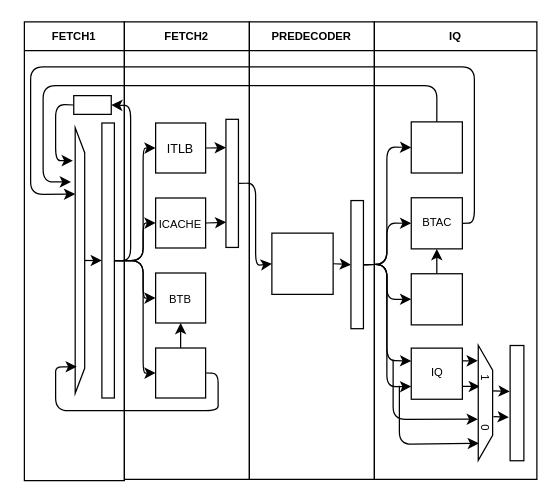
The diagram is 559 pixels wide and 503 high, and some of its shapes have lost their labels. Here are the shapes that lost their labels. From the top down, the centre of each, then its label:
At point 91,104: "PC+8".
At point 436,147: "别名错误 jal/jalr".
At point 302,263: "PRE-DECODER".
At point 436,298: "PHT".
At point 180,372: "方向 预测器".
